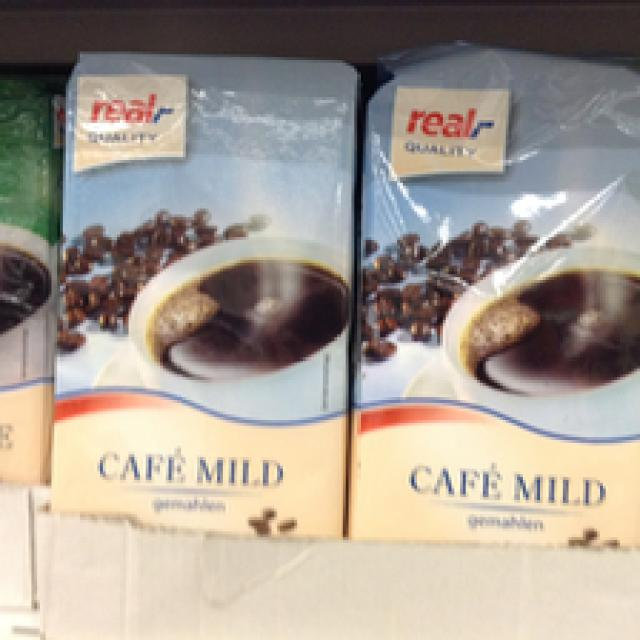groceries: (45, 46, 348, 534), (346, 40, 637, 546)
